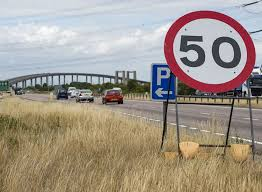Speed_limit_50km: (163, 10, 257, 92)
